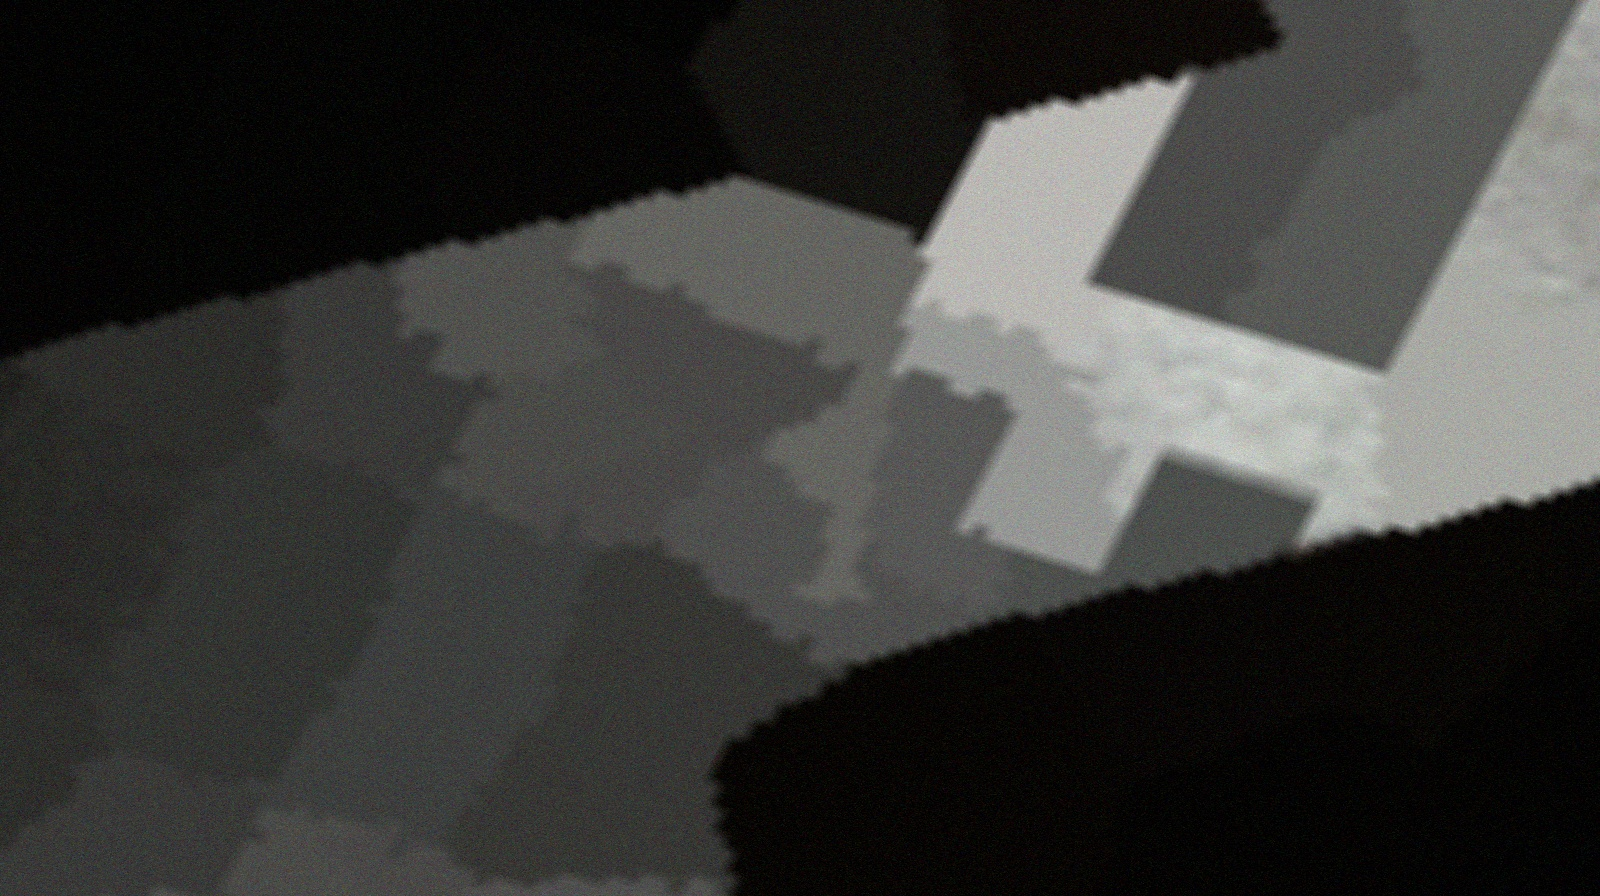S001: (471, 289, 877, 617)
S002: (705, 213, 1059, 619)
